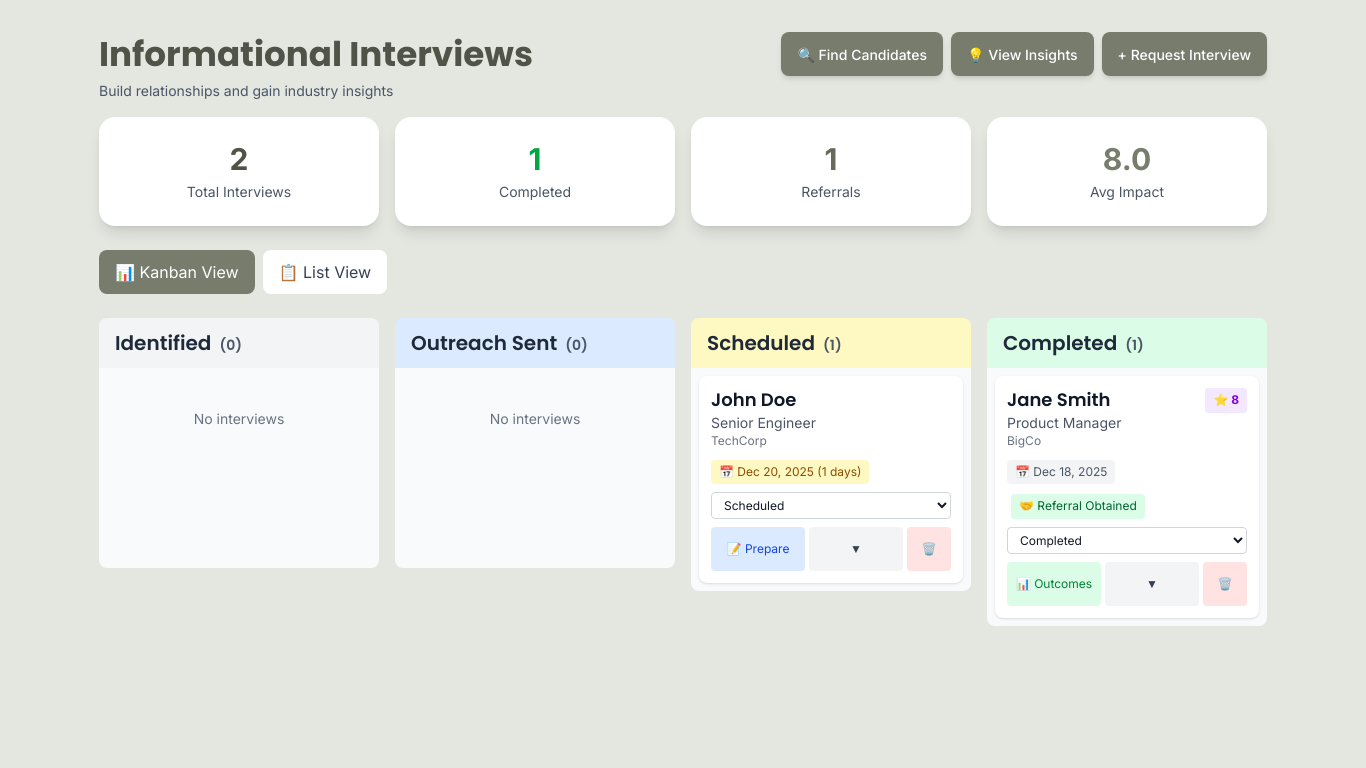
Test case: InformationalInterviewsPage › opens request interview modal when button is clicked
Click the button "+ Request Interview": point(1184, 54) [1102, 32, 1267, 76]
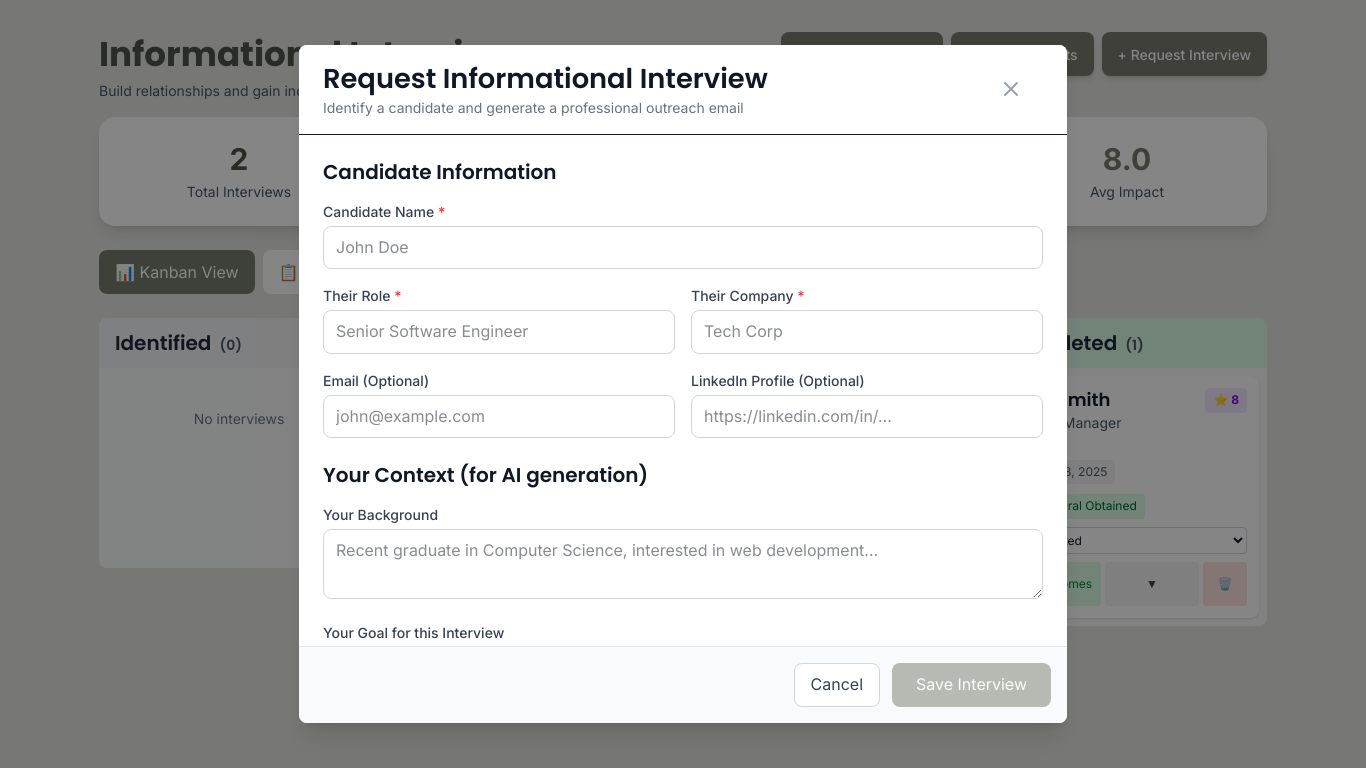
Result: the heading "Request Informational Interview" is shown at [323, 61, 768, 97]
